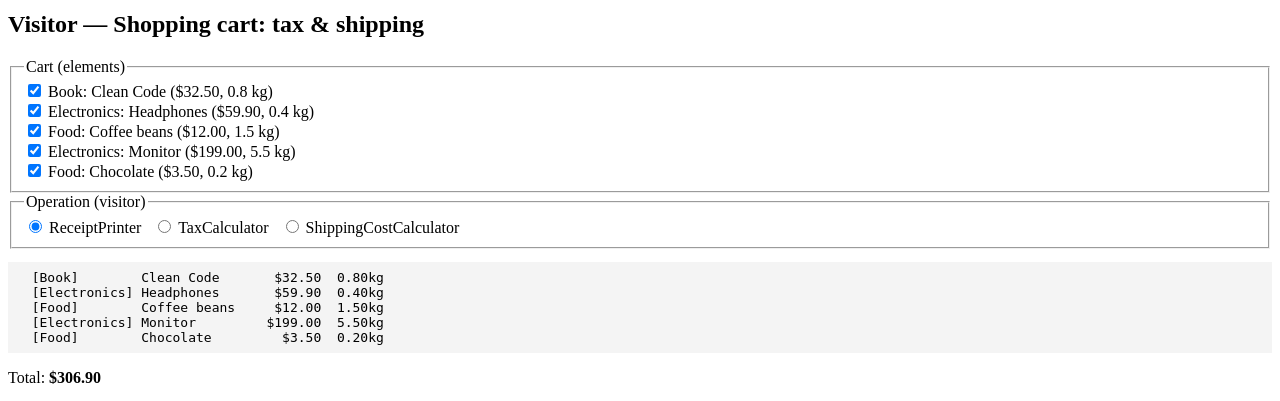
Scenario: <VisitorDemo /> › shows an empty cart when every item is removed
This screenshot has width=1280, height=401.
Click the checkbox labelled "Book: Clean Code ($32.50, 0.8 kg)": (34, 91) x1=28 y1=84 x2=41 y2=97
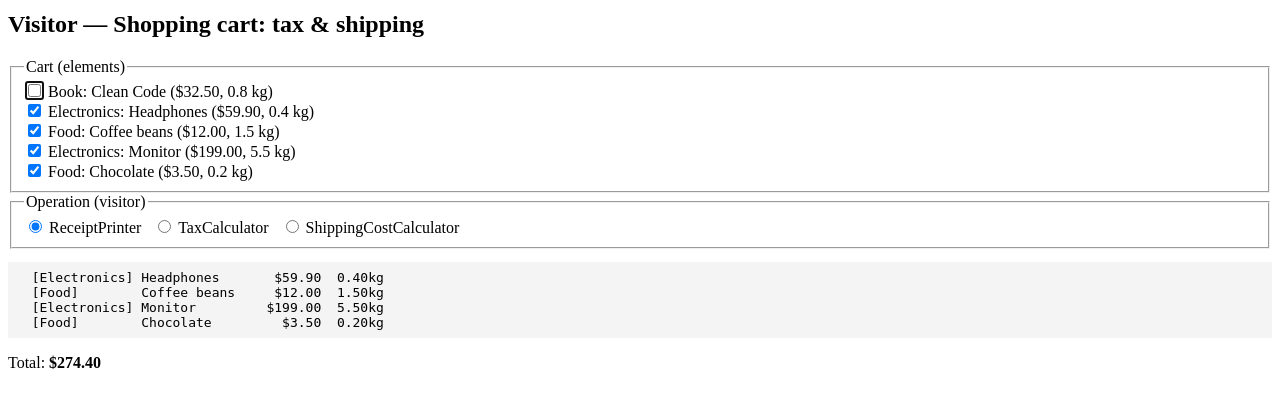
Click the checkbox labelled "Electronics: Headphones ($59.90, 0.4 kg)": (34, 111) x1=28 y1=104 x2=41 y2=117
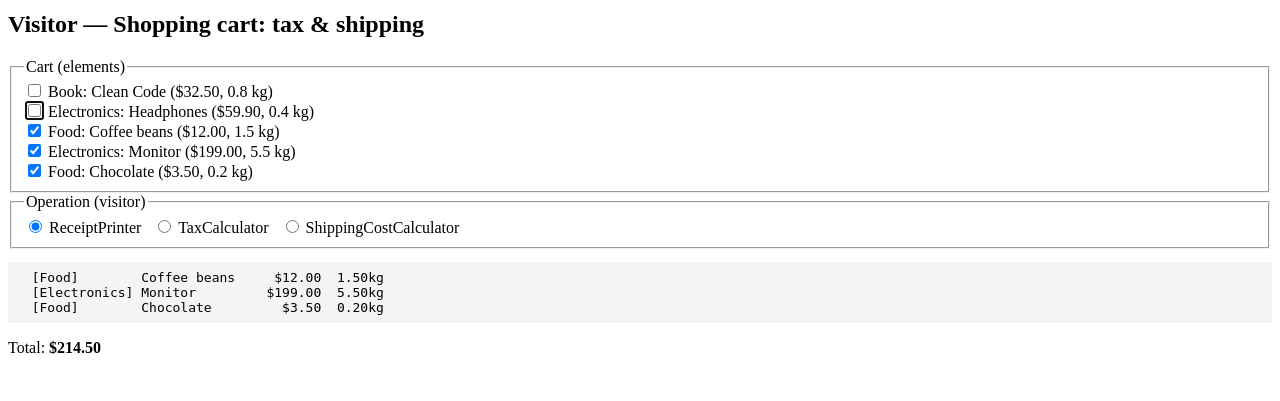
Click the checkbox labelled "Food: Coffee beans ($12.00, 1.5 kg)": (34, 131) x1=28 y1=124 x2=41 y2=137
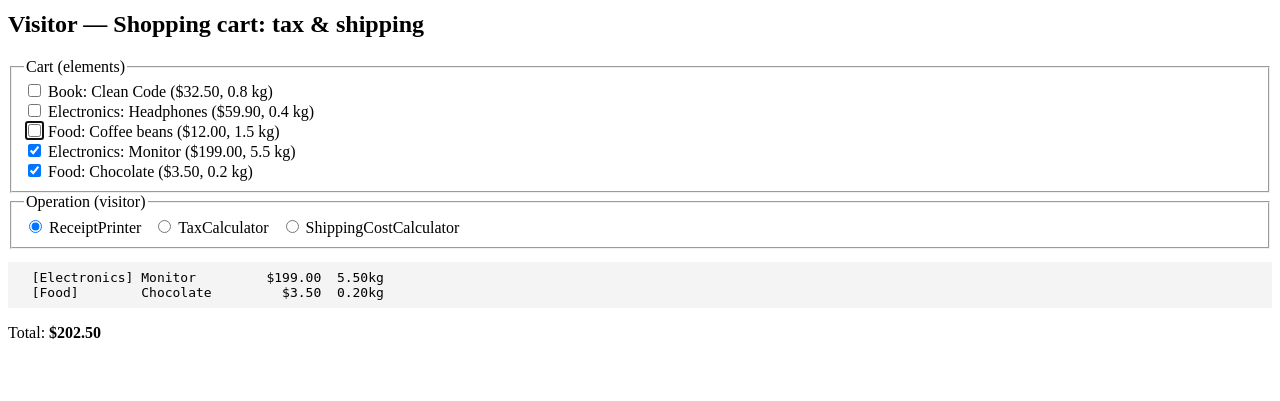
Click the checkbox labelled "Electronics: Monitor ($199.00, 5.5 kg)": (34, 151) x1=28 y1=144 x2=41 y2=157
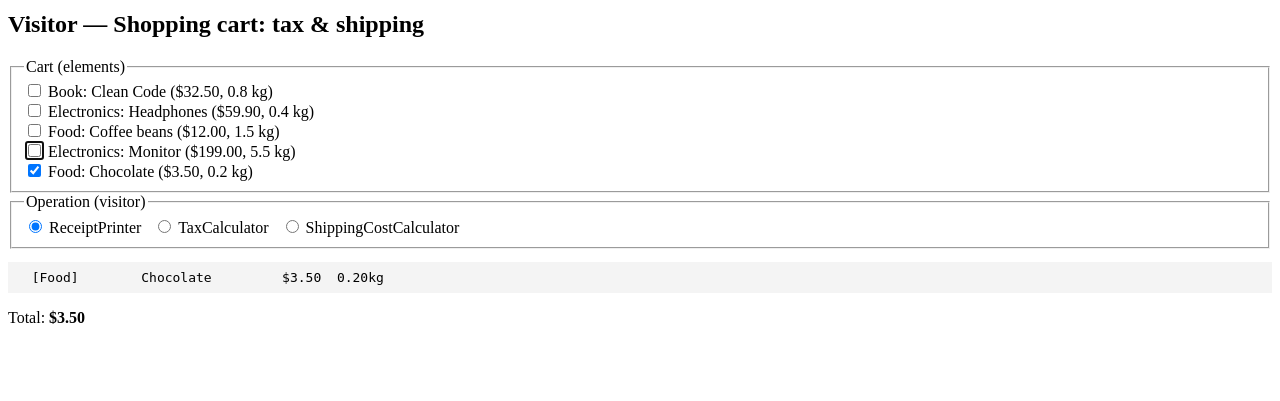
Click the checkbox labelled "Food: Chocolate ($3.50, 0.2 kg)": (34, 171) x1=28 y1=164 x2=41 y2=177
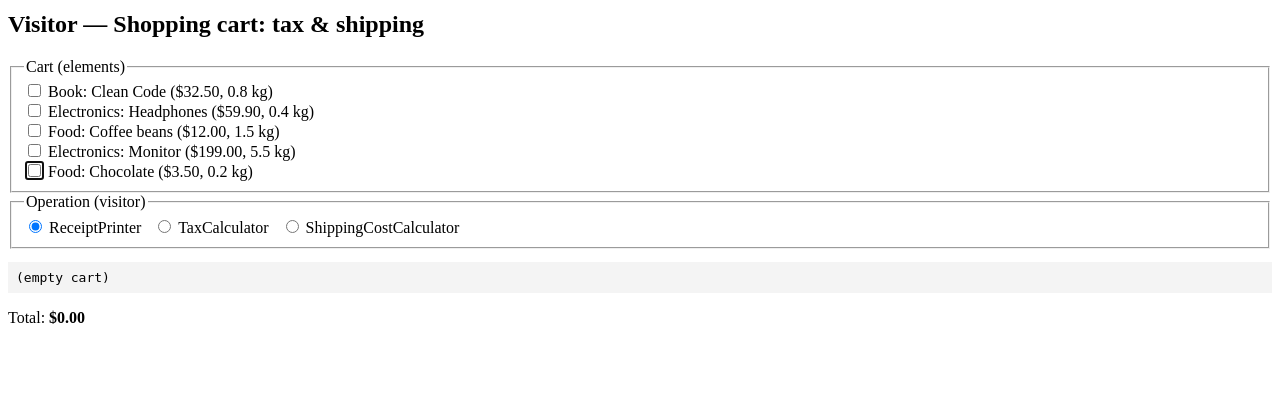
Expected: the text "(empty cart)" is shown, x1=8 y1=262 x2=1272 y2=293
Expected: the text "$0.00" is shown, x1=49 y1=309 x2=85 y2=326
